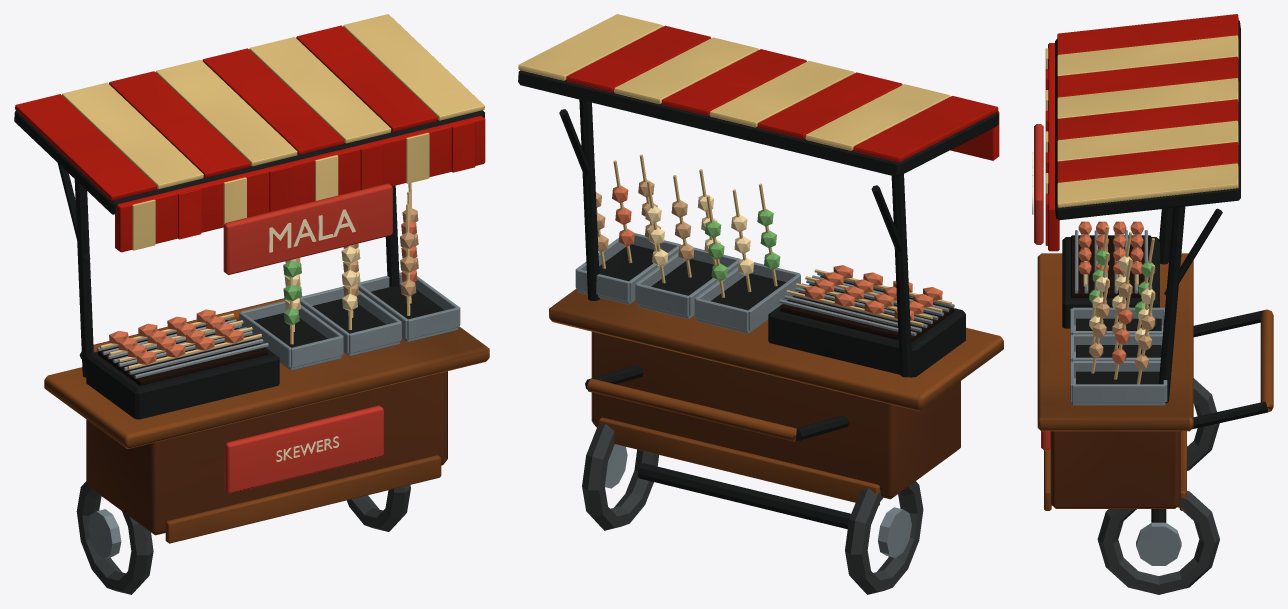
Rendered from Mala_Cart_Game_Ready.glb.
3 views of the same model, side by side, from view 1: azimuth 30°, elevation 25°; view 2: azimuth 150°, elevation 25°; view 3: azimuth 270°, elevation 25° (orthographic). The views are drawn at different scales.
Visible parts, largest first — view 1: MalaCart_GEO_vermilion_canopy, MalaCart_GEO_cream_canopy, MalaCart_GEO_warm_wood_trim, MalaCart_GEO_stained_wood_grain, MalaCart_GEO_dark_iron, MalaCart_GEO_sign_red, MalaCart_GEO_brushed_stainless_steel, MalaCart_GEO_wheel_rubber, MalaCart_GEO_Food_chili_pork, MalaCart_GEO_glowing_charcoal, MalaCart_GEO_Food_bamboo_skewers, MalaCart_GEO_Food_mushroom (+3 smaller); view 2: MalaCart_GEO_dark_iron, MalaCart_GEO_stained_wood_grain, MalaCart_GEO_warm_wood_trim, MalaCart_GEO_vermilion_canopy, MalaCart_GEO_cream_canopy, MalaCart_GEO_brushed_stainless_steel, MalaCart_GEO_wheel_rubber, MalaCart_GEO_Food_chili_pork, MalaCart_GEO_Food_bamboo_skewers, MalaCart_GEO_glowing_charcoal, MalaCart_GEO_Food_tofu, MalaCart_GEO_Food_mushroom (+1 smaller); view 3: MalaCart_GEO_vermilion_canopy, MalaCart_GEO_cream_canopy, MalaCart_GEO_warm_wood_trim, MalaCart_GEO_dark_iron, MalaCart_GEO_stained_wood_grain, MalaCart_GEO_brushed_stainless_steel, MalaCart_GEO_wheel_rubber, MalaCart_GEO_Food_chili_pork, MalaCart_GEO_Food_bamboo_skewers, MalaCart_GEO_glowing_charcoal, MalaCart_GEO_Food_mushroom, MalaCart_GEO_sign_red (+2 smaller).
Boxes of the visible parts, x1,y1,x2,y2 form: MalaCart_GEO_vermilion_canopy: [15, 25, 485, 252]; MalaCart_GEO_cream_canopy: [62, 14, 484, 250]; MalaCart_GEO_warm_wood_trim: [44, 298, 489, 543]; MalaCart_GEO_stained_wood_grain: [86, 371, 447, 535]; MalaCart_GEO_dark_iron: [14, 110, 484, 419]; MalaCart_GEO_sign_red: [223, 183, 392, 493]; MalaCart_GEO_brushed_stainless_steel: [88, 272, 460, 558]; MalaCart_GEO_wheel_rubber: [76, 481, 410, 594]; MalaCart_GEO_Food_chili_pork: [109, 220, 417, 364]; MalaCart_GEO_glowing_charcoal: [98, 320, 267, 385]; MalaCart_GEO_Food_bamboo_skewers: [100, 183, 411, 369]; MalaCart_GEO_Food_mushroom: [343, 208, 418, 296]; MalaCart_GEO_dark_iron: [518, 70, 999, 529]; MalaCart_GEO_stained_wood_grain: [591, 331, 960, 499]; MalaCart_GEO_warm_wood_trim: [549, 287, 1003, 505]; MalaCart_GEO_vermilion_canopy: [566, 25, 999, 162]; MalaCart_GEO_cream_canopy: [518, 14, 950, 150]; MalaCart_GEO_brushed_stainless_steel: [575, 233, 954, 557]; MalaCart_GEO_wheel_rubber: [582, 424, 923, 594]; MalaCart_GEO_Food_chili_pork: [612, 185, 942, 320]; MalaCart_GEO_Food_bamboo_skewers: [596, 154, 951, 326]; MalaCart_GEO_glowing_charcoal: [780, 276, 953, 342]; MalaCart_GEO_Food_tofu: [645, 194, 753, 275]; MalaCart_GEO_Food_mushroom: [596, 180, 694, 261]; MalaCart_GEO_vermilion_canopy: [1045, 14, 1238, 251]; MalaCart_GEO_cream_canopy: [1045, 35, 1238, 207]; MalaCart_GEO_warm_wood_trim: [1037, 253, 1273, 510]; MalaCart_GEO_dark_iron: [1055, 20, 1268, 522]; MalaCart_GEO_stained_wood_grain: [1050, 431, 1180, 508]; MalaCart_GEO_brushed_stainless_steel: [1070, 230, 1181, 565]; MalaCart_GEO_wheel_rubber: [1097, 378, 1219, 594]; MalaCart_GEO_Food_chili_pork: [1078, 221, 1143, 364]; MalaCart_GEO_Food_bamboo_skewers: [1083, 226, 1154, 384]; MalaCart_GEO_glowing_charcoal: [1071, 235, 1151, 297]; MalaCart_GEO_Food_mushroom: [1089, 282, 1155, 370]; MalaCart_GEO_sign_red: [1034, 124, 1050, 450].
Bounding box in the file's own units: 1.86 × 2.23 × 1.11.
17 materials, 7 textured.
